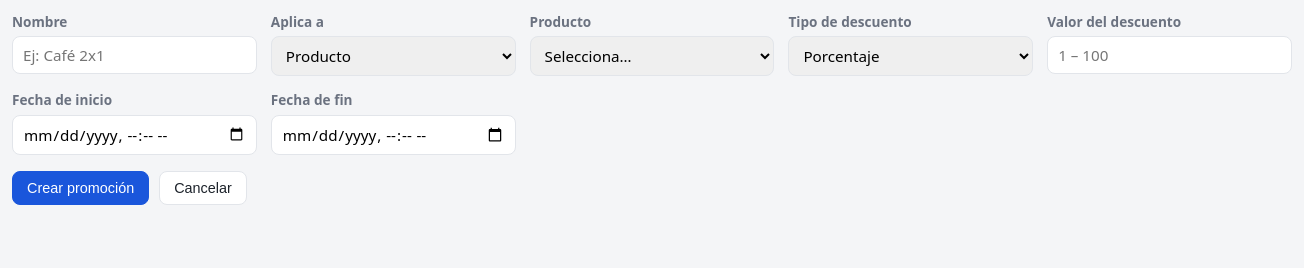
PromotionForm › rechaza fecha de fin anterior a la de inicio
Type "Promo válida" into the field labelled "Nombre" at (134, 55), box [12, 36, 257, 74]
Select "Producto" in the dropdown labelled "Aplica a" at (393, 56), box [271, 36, 516, 76]
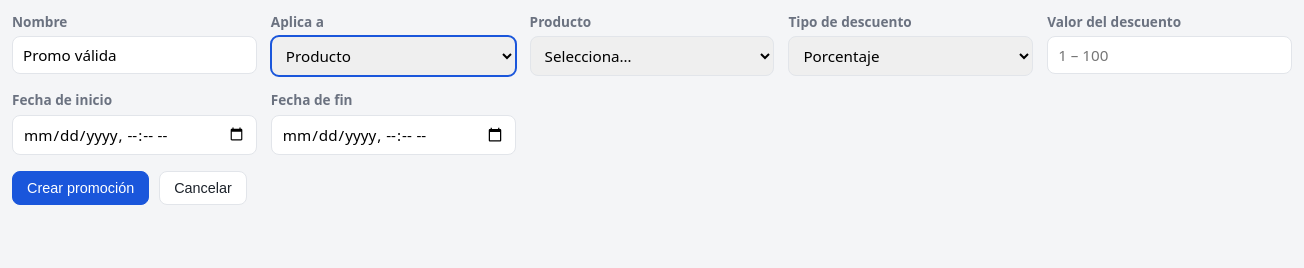
Select "Café" in the dropdown labelled "Producto" at (652, 56), box [530, 36, 774, 76]
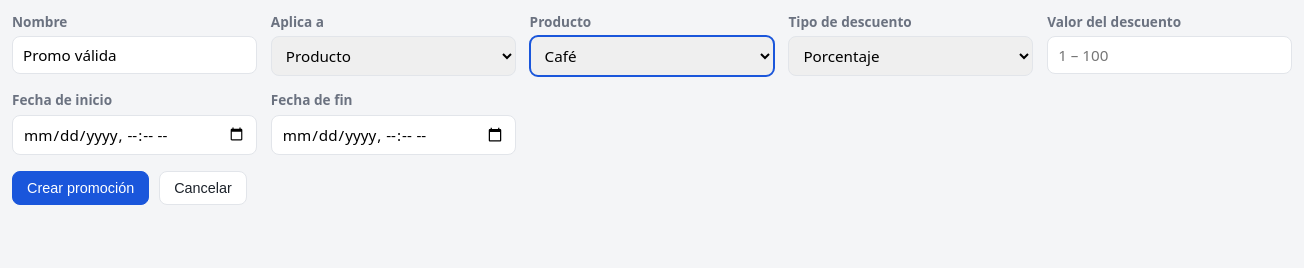
Type "20" into the number field labelled "Valor del descuento" at (1170, 55), box [1047, 36, 1292, 74]
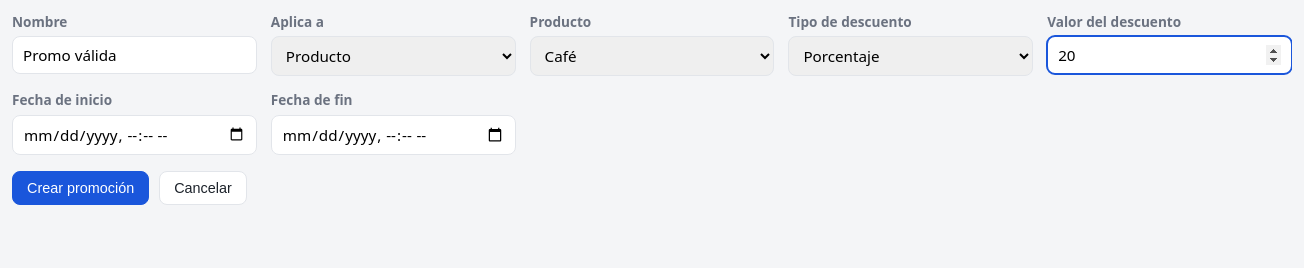
Type "2026-09-10T10:00" into the field labelled "Fecha de inicio" at (134, 135), box [12, 115, 257, 155]
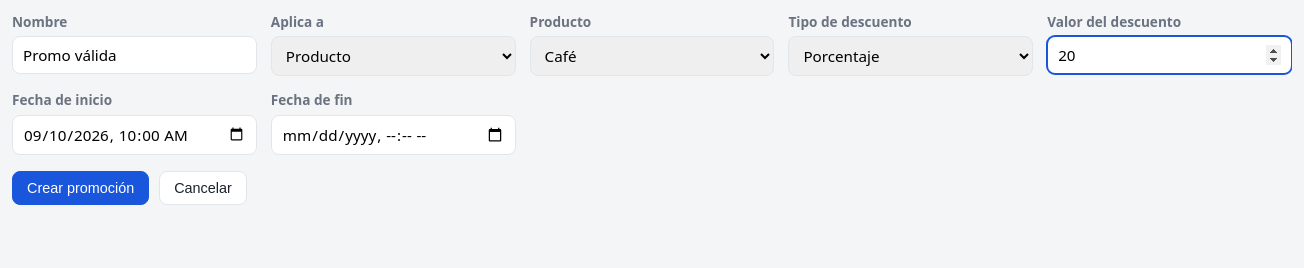
Type "2026-09-01T10:00" into the field labelled "Fecha de fin" at (393, 135), box [271, 115, 516, 155]
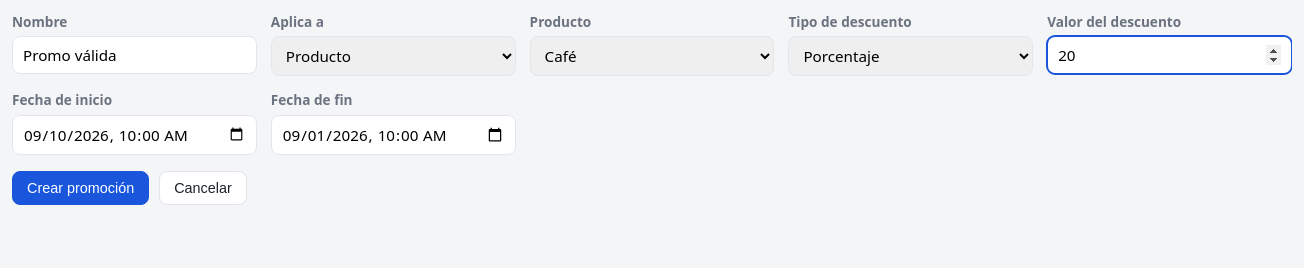
Click the button "Crear promoción" at (81, 188), box [12, 171, 149, 205]
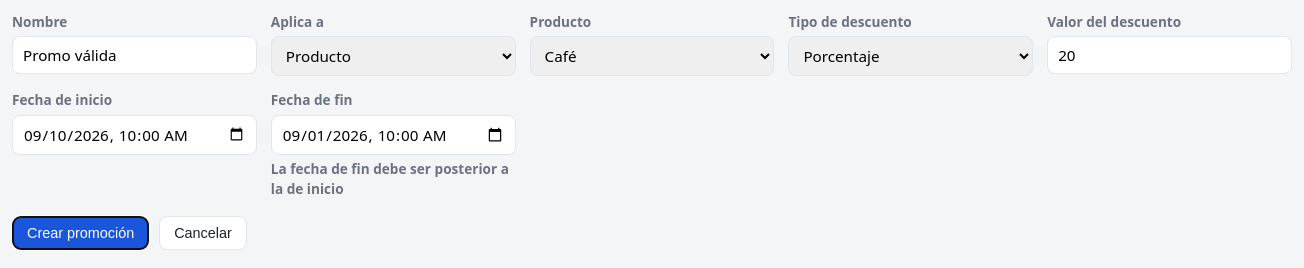
Expected: the text "La fecha de fin debe ser posterior a la de inicio" is shown, [271, 159, 516, 200]
